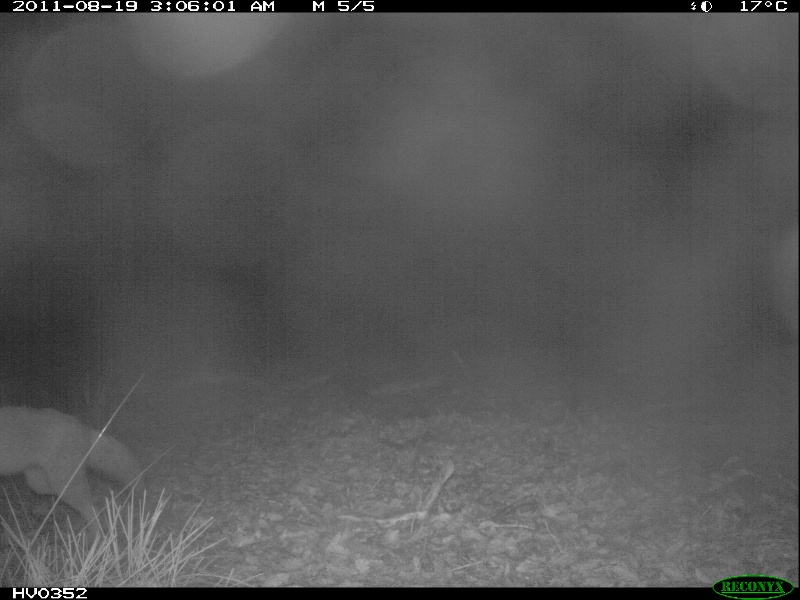fox: (1, 406, 145, 532)
